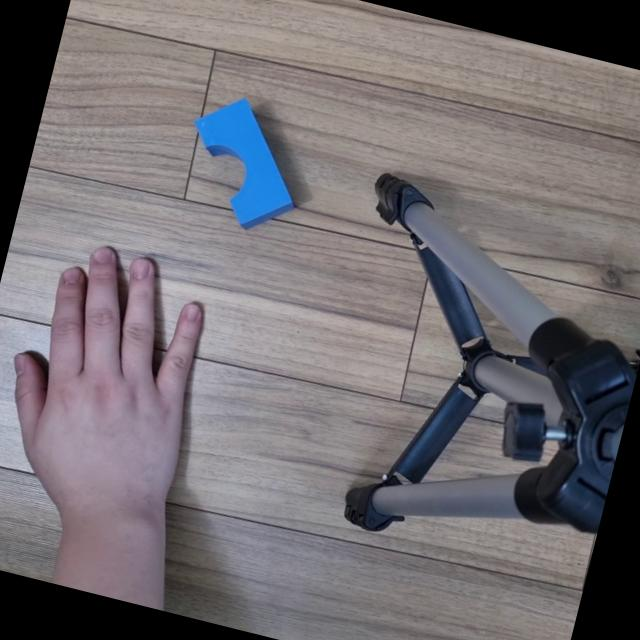block: (175, 83, 318, 242)
hand: (0, 230, 246, 531)
